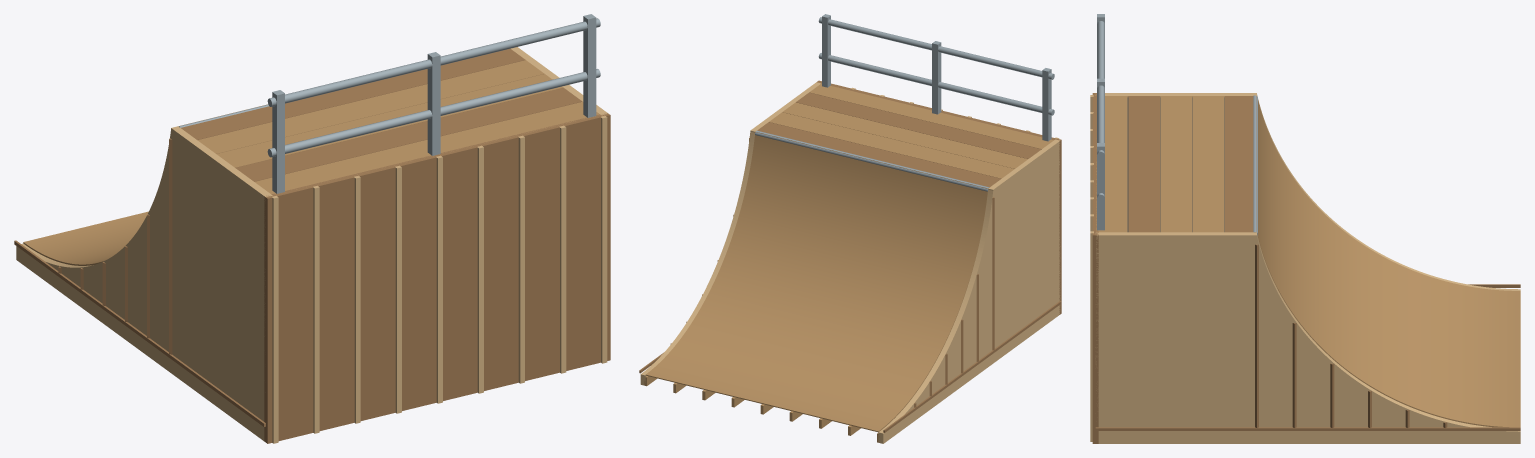
The model's file is skate_qp_round.glb.
3 renders of one model, left to right at view 1: azimuth 30°, elevation 25°; view 2: azimuth 150°, elevation 25°; view 3: azimuth 270°, elevation 25°, orthographic. The views are drawn at different scales.
Visible parts, largest first — view 1: VISUAL__round_closed_back, VISUAL__round_deck_side_left, VISUAL__round_side_left, VISUAL__round_deck_plank.001, VISUAL__round_deck_plank.003, VISUAL__round_deck_plank.004, VISUAL__round_deck_plank, VISUAL__round_deck_plank.002, VISUAL__round_ride, VISUAL__round_backrail_rail.001, VISUAL__round_backrail_rail, VISUAL__round_back_rib_06 (+13 smaller); view 2: VISUAL__round_ride, VISUAL__round_deck_side_left, VISUAL__round_side_left, VISUAL__round_deck_plank.001, VISUAL__round_deck_plank.002, VISUAL__round_deck_plank.003, VISUAL__round_deck_plank.004, VISUAL__round_deck_plank, VISUAL__round_backrail_rail.001, VISUAL__round_backrail_rail, VISUAL__round_side_right, VISUAL__round_coping (+6 smaller); view 3: VISUAL__round_ride, VISUAL__round_deck_side_right, VISUAL__round_side_right, VISUAL__round_deck_plank.001, VISUAL__round_deck_plank.002, VISUAL__round_deck_plank.003, VISUAL__round_deck_plank, VISUAL__round_deck_plank.004, VISUAL__round_closed_back, VISUAL__round_base_timber_right, VISUAL__round_backrail_rail.001, VISUAL__round_exposed_side_stud_1_07 (+7 smaller).
Boxes of the visible parts, left/top/right/bottom form: VISUAL__round_closed_back: left=264, top=113, right=610, bottom=443; VISUAL__round_deck_side_left: left=171, top=126, right=272, bottom=440; VISUAL__round_side_left: left=16, top=131, right=170, bottom=372; VISUAL__round_deck_plank.001: left=197, top=60, right=544, bottom=153; VISUAL__round_deck_plank.003: left=235, top=88, right=582, bottom=181; VISUAL__round_deck_plank.004: left=254, top=101, right=600, bottom=194; VISUAL__round_deck_plank: left=181, top=48, right=525, bottom=139; VISUAL__round_deck_plank.002: left=216, top=74, right=563, bottom=167; VISUAL__round_ride: left=23, top=106, right=260, bottom=265; VISUAL__round_backrail_rail.001: left=267, top=18, right=600, bottom=106; VISUAL__round_backrail_rail: left=267, top=69, right=600, bottom=157; VISUAL__round_back_rib_06: left=518, top=135, right=524, bottom=383; VISUAL__round_ride: left=645, top=132, right=987, bottom=432; VISUAL__round_deck_side_left: left=988, top=139, right=1060, bottom=363; VISUAL__round_side_left: left=878, top=189, right=993, bottom=443; VISUAL__round_deck_plank.001: left=769, top=112, right=1014, bottom=178; VISUAL__round_deck_plank.002: left=782, top=102, right=1027, bottom=168; VISUAL__round_deck_plank.003: left=796, top=92, right=1041, bottom=158; VISUAL__round_deck_plank.004: left=809, top=83, right=1053, bottom=149; VISUAL__round_deck_plank: left=757, top=122, right=1000, bottom=188; VISUAL__round_backrail_rail.001: left=818, top=17, right=1054, bottom=79; VISUAL__round_backrail_rail: left=818, top=53, right=1054, bottom=115; VISUAL__round_side_right: left=640, top=131, right=754, bottom=385; VISUAL__round_coping: left=755, top=130, right=989, bottom=191; VISUAL__round_ride: left=1257, top=101, right=1520, bottom=427; VISUAL__round_deck_side_right: left=1095, top=232, right=1256, bottom=443; VISUAL__round_side_right: left=1257, top=234, right=1520, bottom=443; VISUAL__round_deck_plank.001: left=1192, top=96, right=1224, bottom=232; VISUAL__round_deck_plank.002: left=1160, top=96, right=1192, bottom=232; VISUAL__round_deck_plank.003: left=1128, top=96, right=1159, bottom=232; VISUAL__round_deck_plank: left=1225, top=96, right=1256, bottom=232; VISUAL__round_deck_plank.004: left=1096, top=96, right=1127, bottom=232; VISUAL__round_closed_back: left=1092, top=93, right=1098, bottom=443; VISUAL__round_base_timber_right: left=1095, top=427, right=1520, bottom=430; VISUAL__round_backrail_rail.001: left=1097, top=21, right=1104, bottom=158; VISUAL__round_exposed_side_stud_1_07: left=1255, top=244, right=1258, bottom=427.
Bounding box in the file's own units: 3.17 × 3 × 4.
